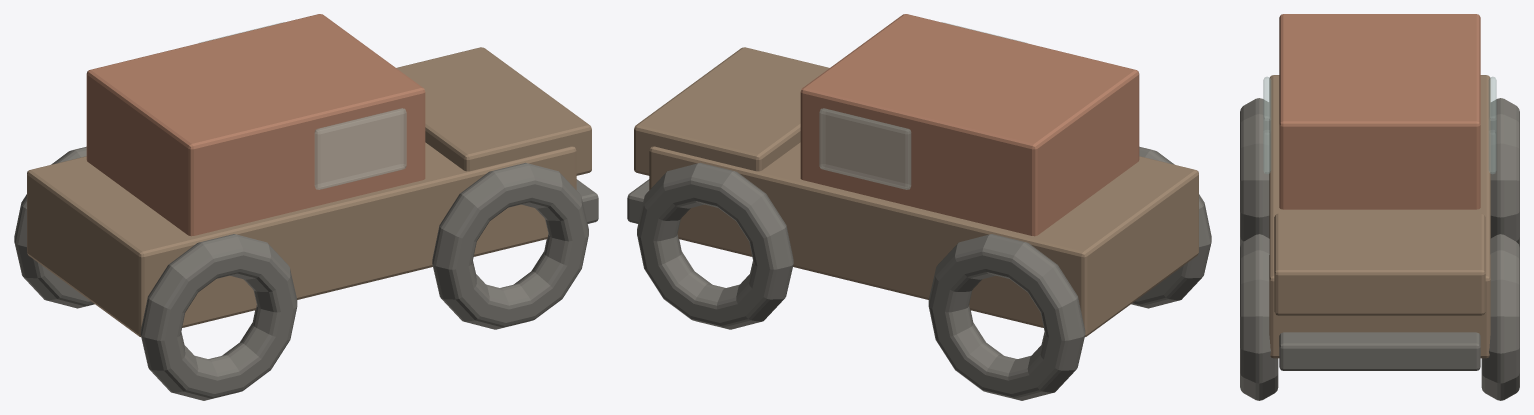
Rendered from junkcar.glb.
The picture shows the model from 3 angles, left to right: view 1: azimuth 30°, elevation 25°; view 2: azimuth 150°, elevation 25°; view 3: azimuth 270°, elevation 25°; orthographic projection. The views are drawn at different scales.
Visible parts, largest first — view 1: body; view 2: body; view 3: body.
Part boxes in pixels (x1=…): body: x1=14, y1=14, x2=598, y2=400; body: x1=627, y1=14, x2=1211, y2=400; body: x1=1240, y1=14, x2=1519, y2=400.
Bounding box in the file's own units: 2.57 × 1.29 × 1.39.
